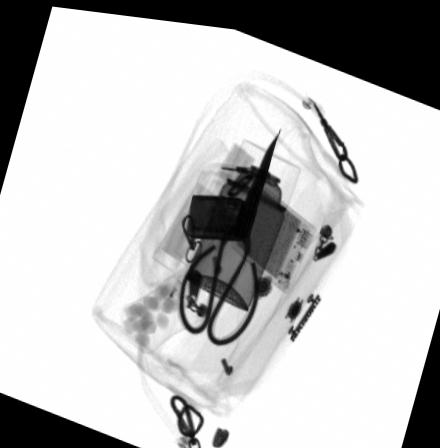Lighter: (188, 187, 245, 234)
Powerbank: (220, 163, 319, 287)
Scissors: (177, 125, 280, 342)
Sprayer: (184, 130, 303, 304)
